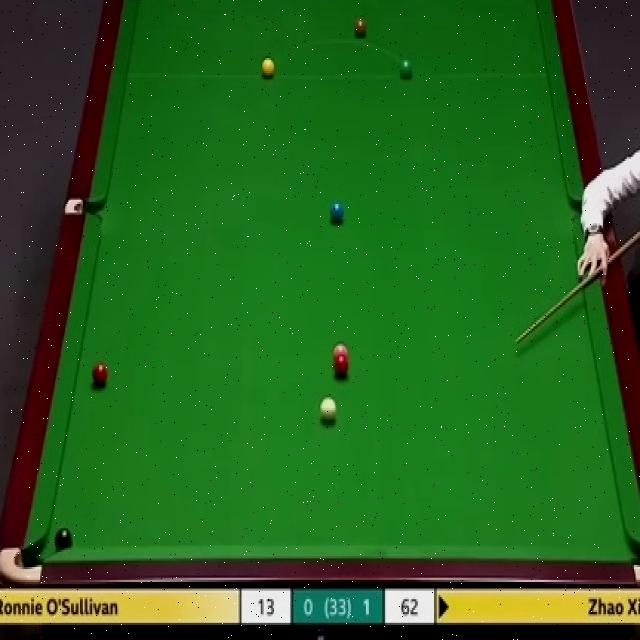black-ball: (55, 528, 71, 550)
blue-ball: (330, 200, 345, 222)
brown-ball: (353, 18, 367, 40)
green-ball: (398, 56, 413, 80)
pink-ball: (331, 344, 349, 354)
red-ball: (90, 362, 108, 389), (333, 356, 348, 379)
white-ball: (318, 397, 337, 420)
yellow-ball: (261, 59, 275, 80)
